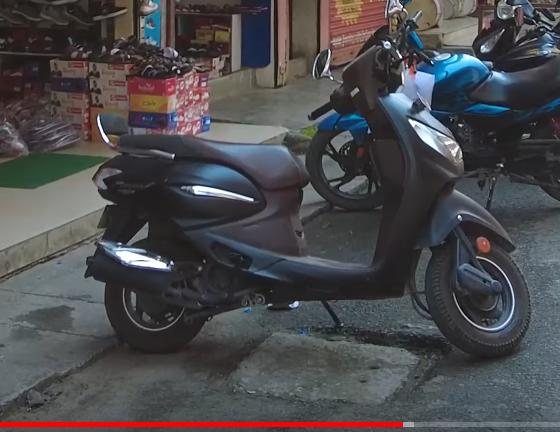scooter: (78, 37, 538, 369)
